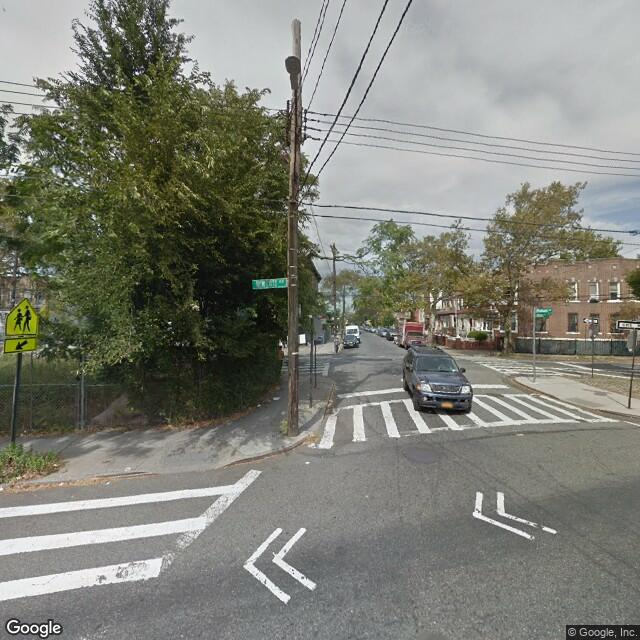litter: (302, 459, 315, 466), (253, 400, 262, 408), (103, 481, 113, 488), (516, 430, 524, 437), (13, 474, 23, 479), (272, 394, 280, 400), (279, 409, 285, 414), (52, 461, 58, 466)
